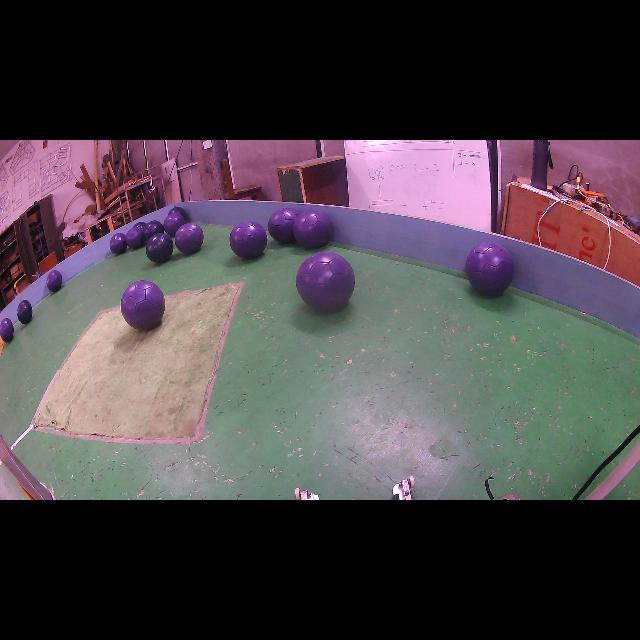B: (146, 232, 174, 262), (142, 220, 164, 241), (16, 300, 32, 324), (169, 206, 188, 220)
P: (296, 252, 355, 311), (465, 242, 514, 295), (120, 280, 165, 329), (292, 210, 332, 249), (230, 221, 268, 259), (268, 208, 300, 244), (175, 222, 204, 254), (164, 212, 185, 236), (126, 226, 144, 249), (46, 270, 62, 292), (110, 232, 126, 254), (0, 318, 14, 342)
